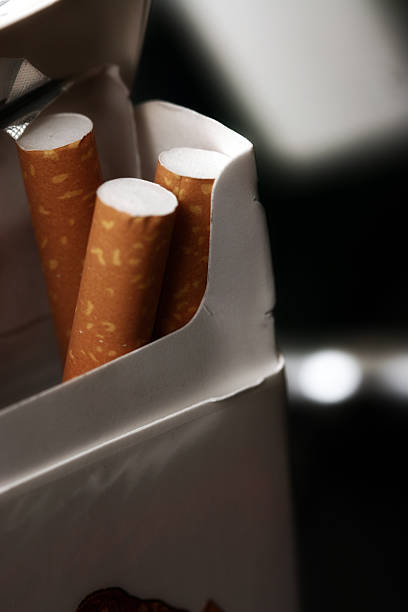cigarette: (0, 0, 312, 612), (59, 176, 179, 385), (17, 111, 105, 383), (151, 145, 234, 345)
